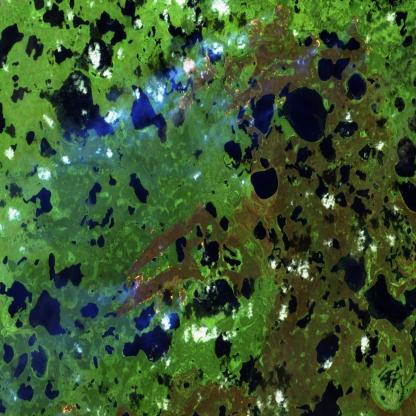fire: (171, 2, 374, 127), (112, 256, 194, 324), (57, 391, 80, 416)
